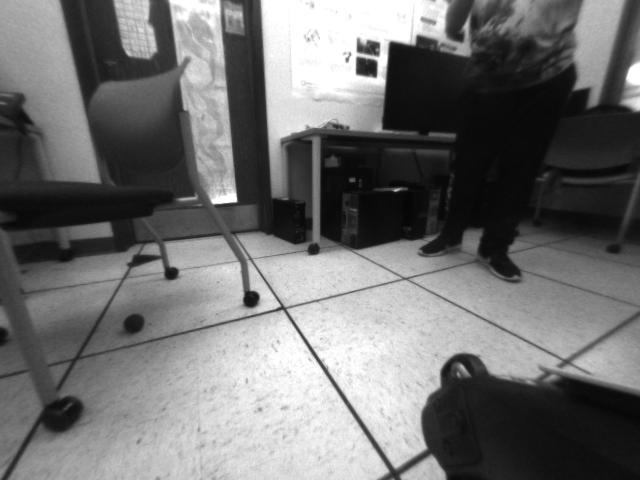dogtoy: (114, 309, 150, 336)
